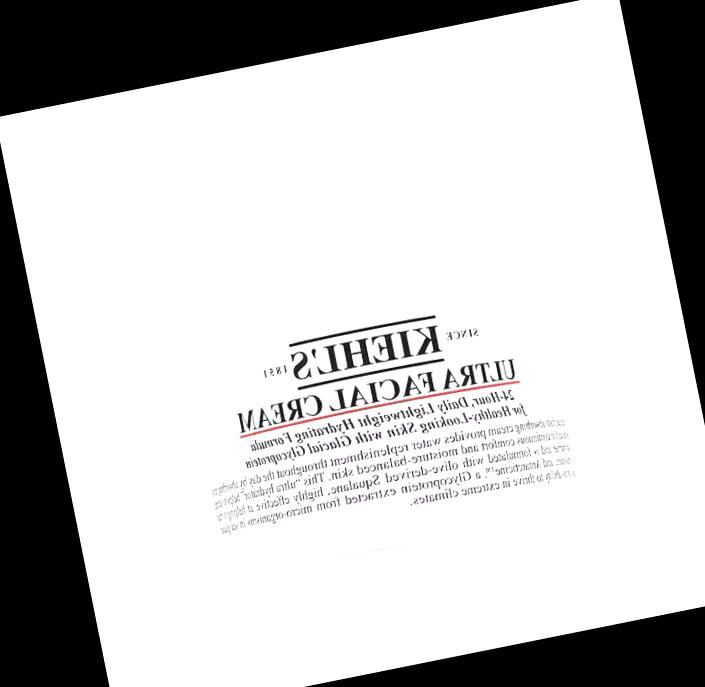cosmetic: (165, 204, 593, 582)
